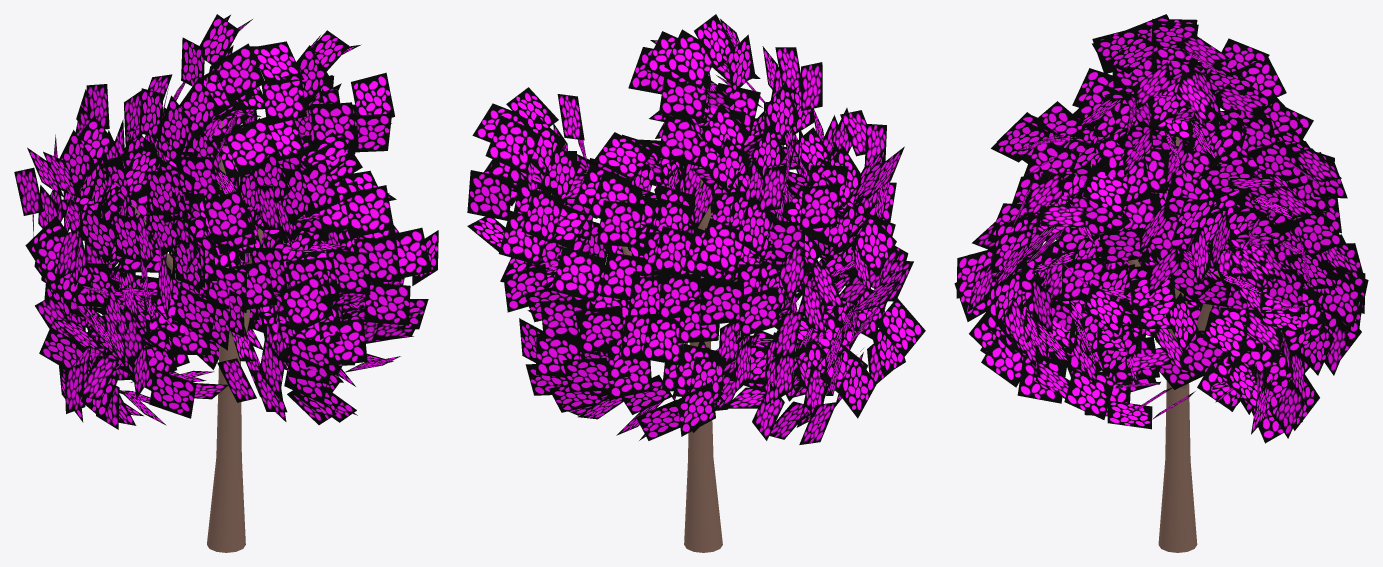
Rendered from tree.glb.
The picture shows the model from 3 angles, left to right: view 1: azimuth 30°, elevation 25°; view 2: azimuth 150°, elevation 25°; view 3: azimuth 270°, elevation 25°; orthographic projection.
Parts seen in each view (by area): view 1: leaves, trunk; view 2: leaves, trunk; view 3: leaves, trunk.
Part boxes in pixels (x1,y1,x2,y2): leaves: (14,14,438,429); trunk: (131,121,262,552); leaves: (467,14,925,444); trunk: (621,139,747,552); leaves: (954,14,1368,443); trunk: (1128,136,1219,552).
Size of what is drawn, in the model's own units: 4.65 by 6.14 by 4.43.
1 material, 1 textured.
